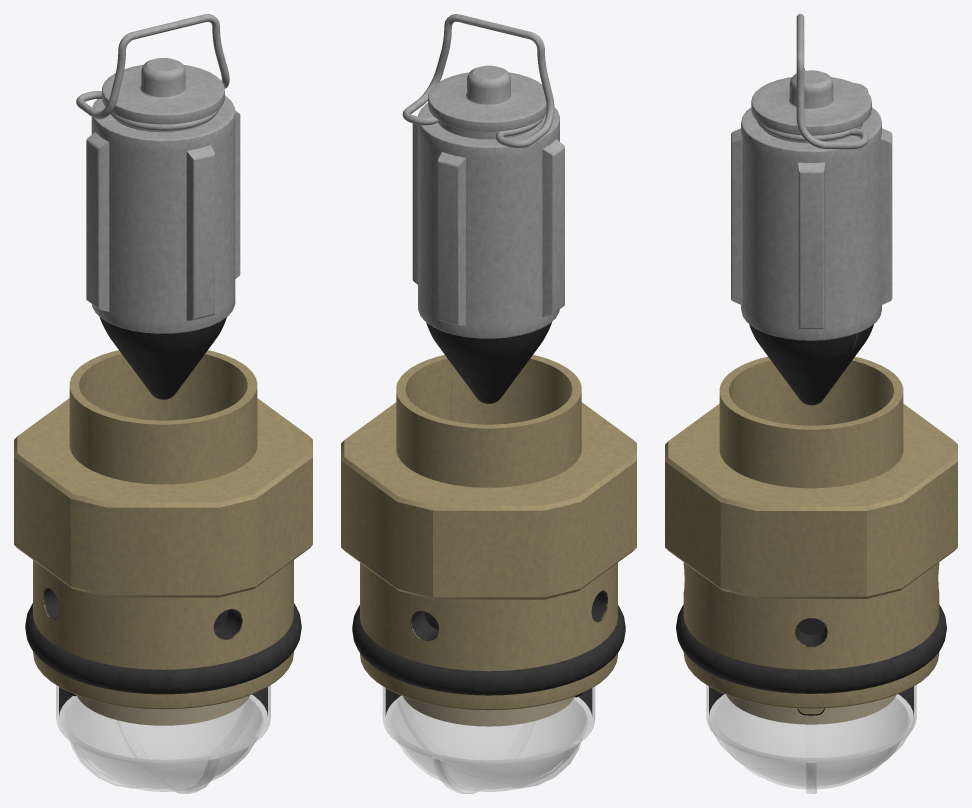
File: pelampungDanNeedleValve.glb
3 renders of one model, left to right at view 1: azimuth 30°, elevation 25°; view 2: azimuth 150°, elevation 25°; view 3: azimuth 270°, elevation 25°, orthographic. The views are drawn at different scales.
Parts seen in each view (by area): view 1: pelampungDanNeedleValve; view 2: pelampungDanNeedleValve; view 3: pelampungDanNeedleValve.
Boxes of the visible parts, x1,y1,x2,y2 form: pelampungDanNeedleValve: (14,14,312,793); pelampungDanNeedleValve: (341,14,636,793); pelampungDanNeedleValve: (665,14,957,793).
Size of the model in its own units: 1.01 by 3.03 by 1.08.
Materials: 2 (1 with a texture image).
